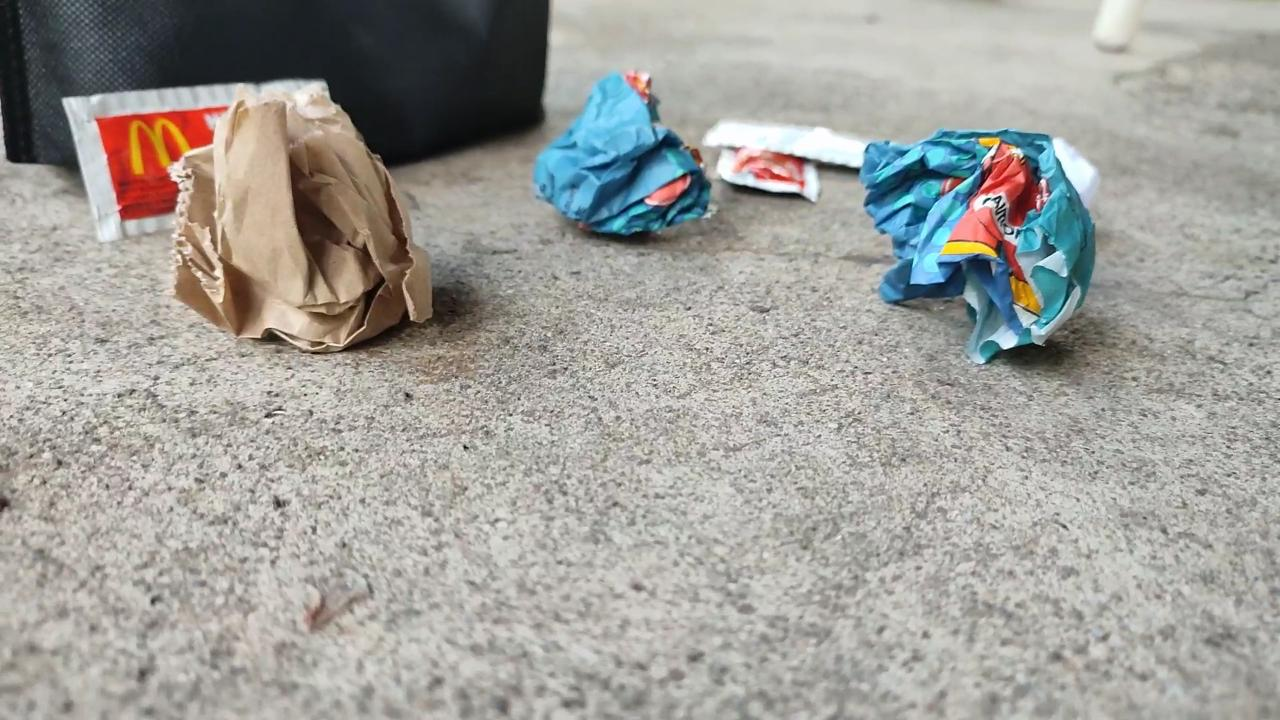Paper: (166, 77, 444, 359), (852, 110, 1105, 360), (533, 37, 722, 255)
